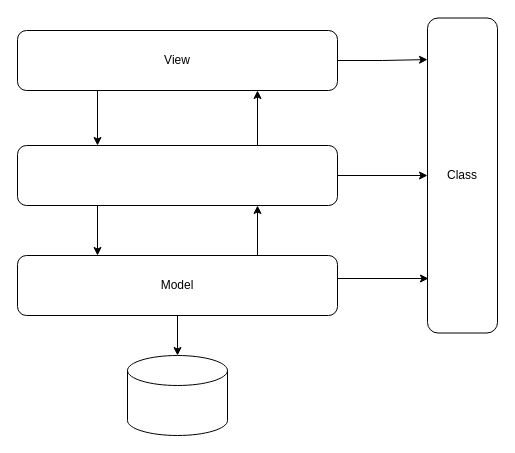
Some shapes in this 515 by 453 pixel diagram are drawn without their labels. Each missing label, with the centre of its shape:
"Control" goes at pixel 177 175.
"Database" goes at pixel 177 395.
